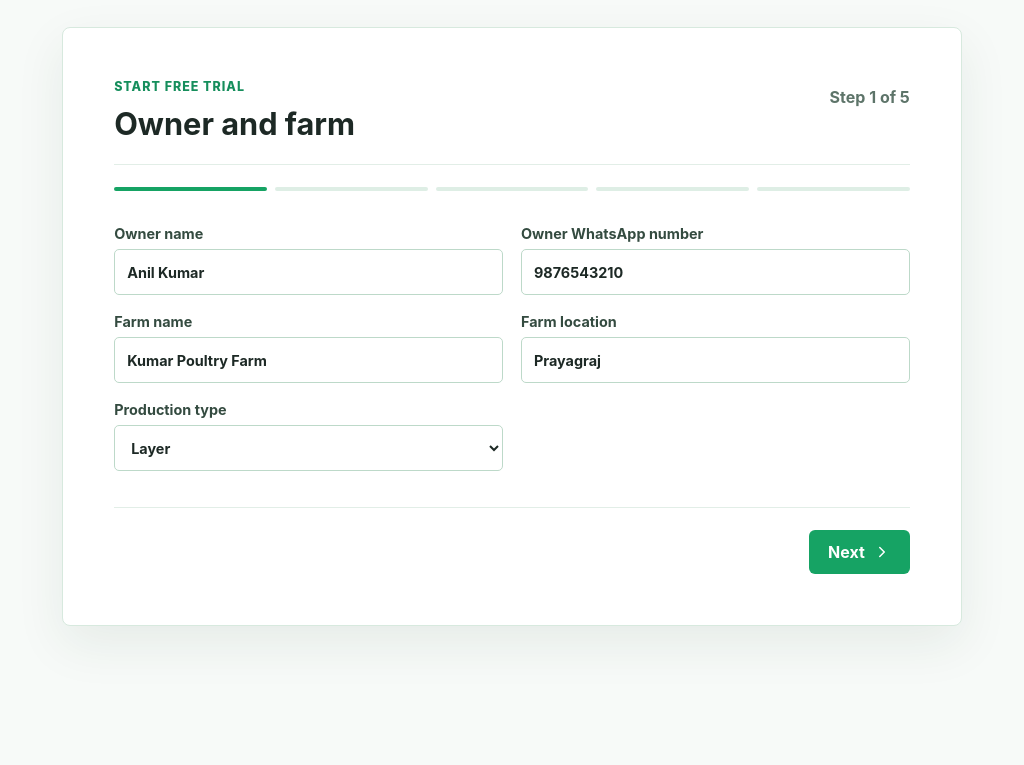
Test: TrialForm › allows no more than four workers
The image size is (1024, 765).
Click the button "Next". click: {"x": 859, "y": 552}
box: x1=809 y1=530 x2=910 y2=574
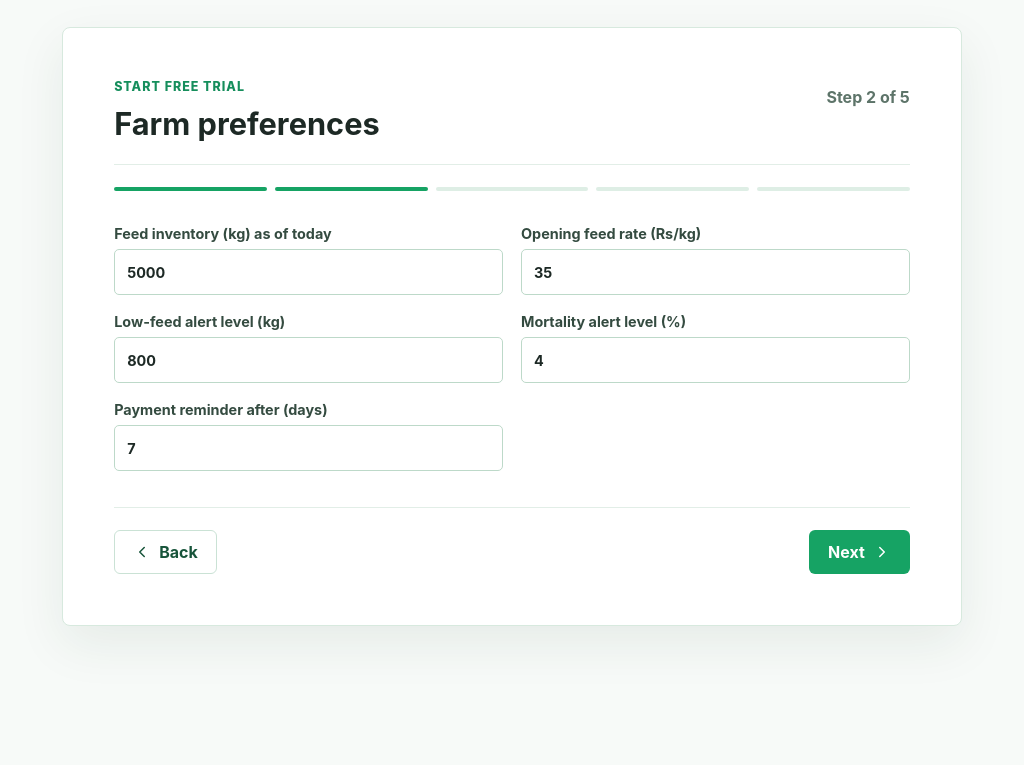
expect the heading "Farm preferences" is shown: met, box x1=114 y1=108 x2=380 y2=140
Click the button "Next". click: {"x": 859, "y": 552}
box: x1=809 y1=530 x2=910 y2=574
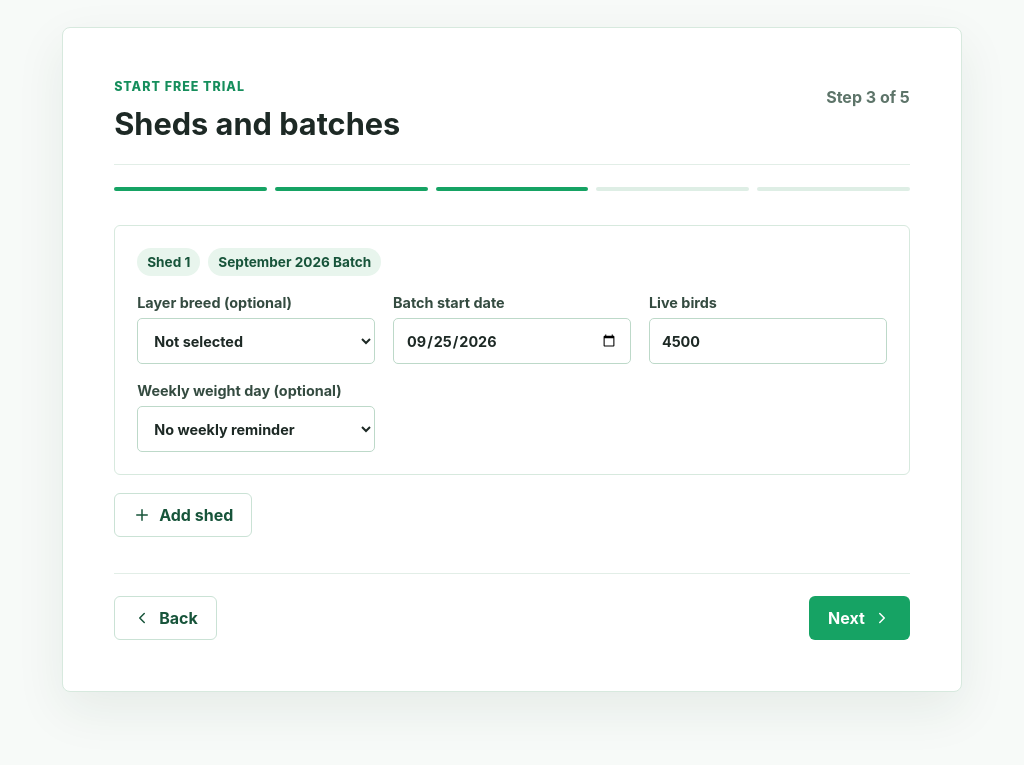
expect the heading "Sheds and batches" is shown: met, box x1=114 y1=108 x2=400 y2=140
Click the button "Next". click: {"x": 859, "y": 618}
box: x1=809 y1=596 x2=910 y2=640
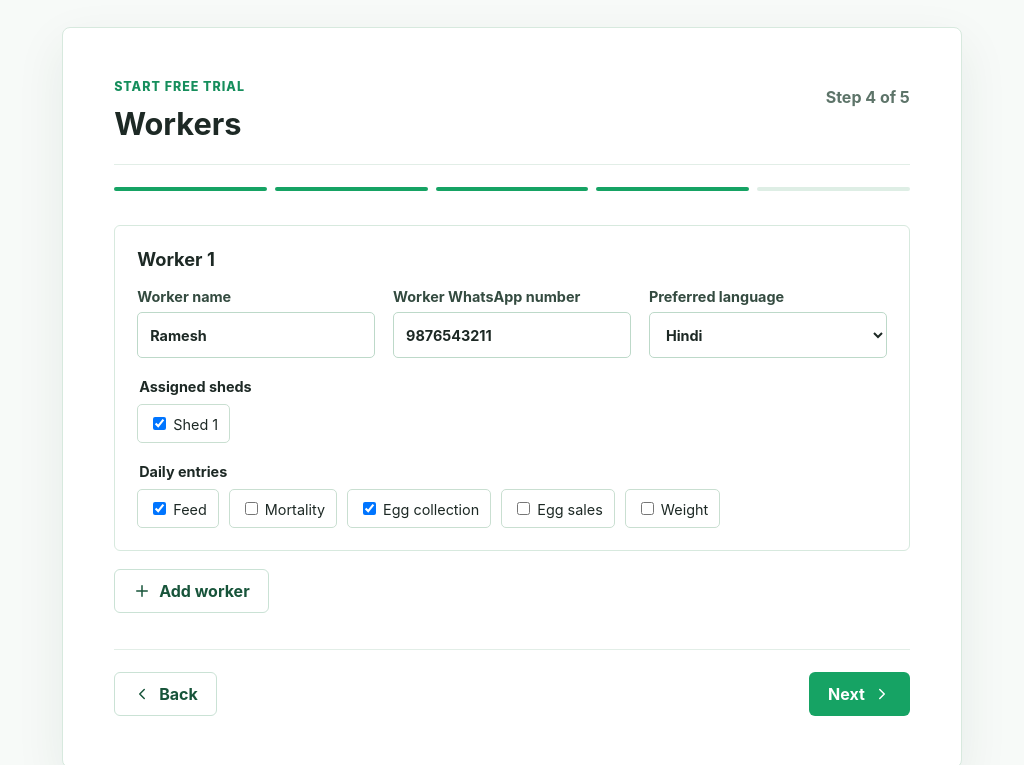
expect the heading "Workers" is shown: met, box x1=114 y1=108 x2=245 y2=140
Click the button "Add worker". click: {"x": 191, "y": 591}
box: x1=114 y1=569 x2=269 y2=613
(page scrolled)
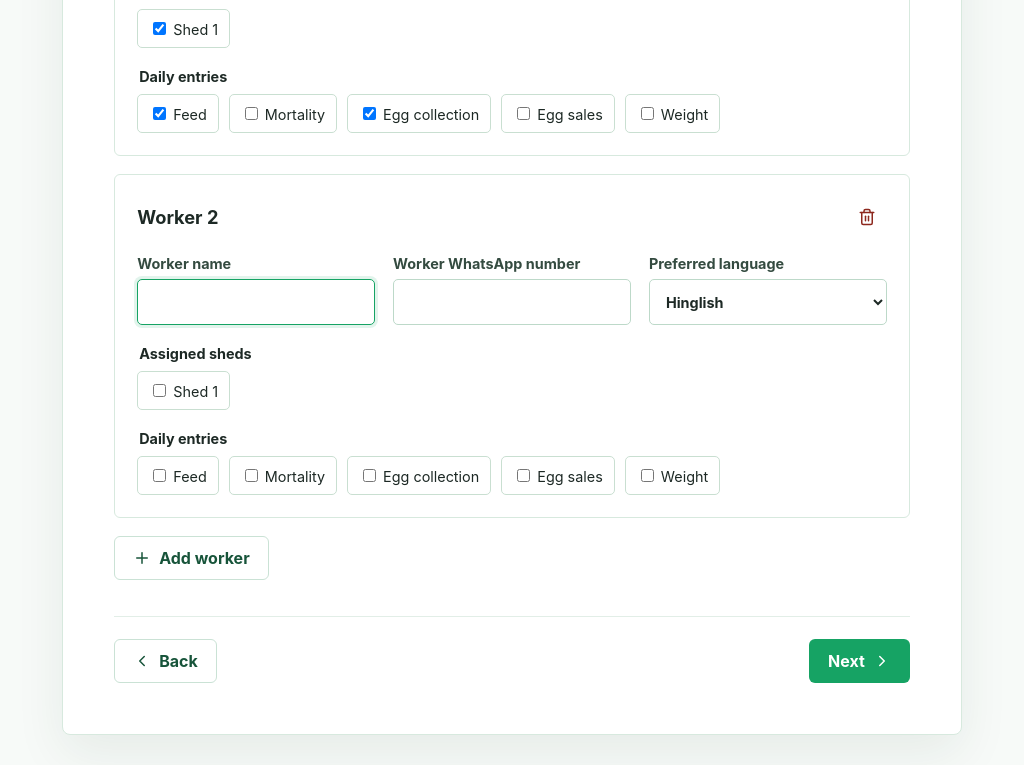
expect the heading "Worker 2" is shown: met, box x1=137 y1=206 x2=218 y2=228
Click the button "Add worker". click: {"x": 191, "y": 558}
box: x1=114 y1=536 x2=269 y2=580
(page scrolled)
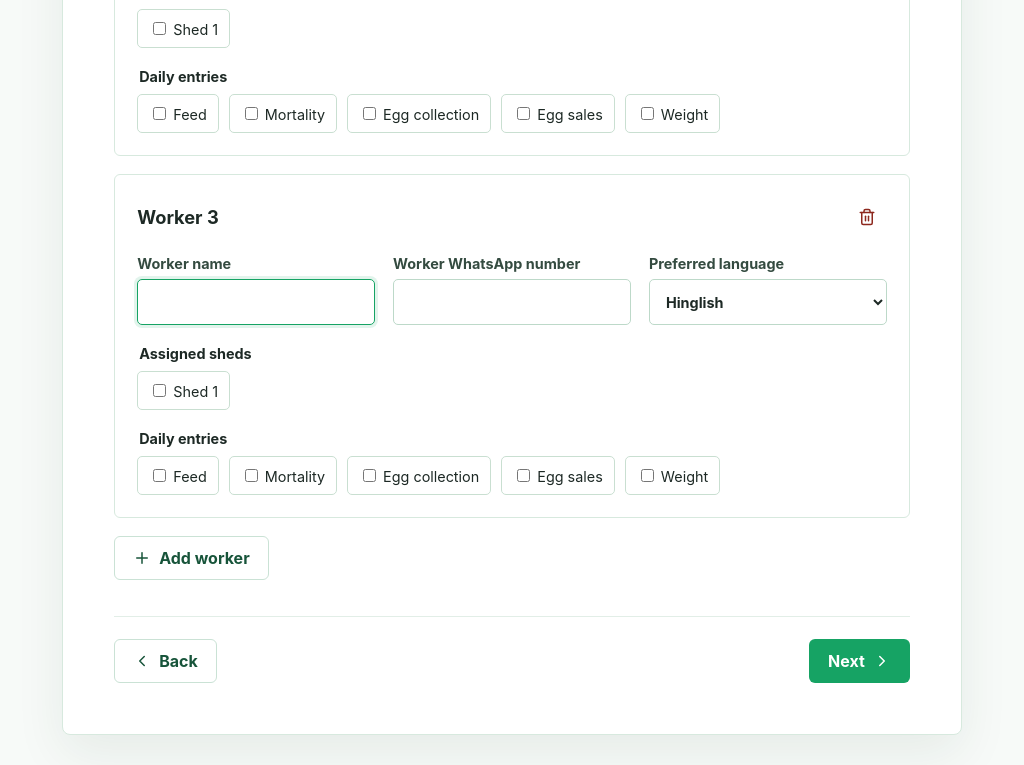
expect the heading "Worker 3" is shown: met, box x1=137 y1=206 x2=219 y2=228
Click the button "Add worker". click: {"x": 191, "y": 558}
box: x1=114 y1=536 x2=269 y2=580
(page scrolled)
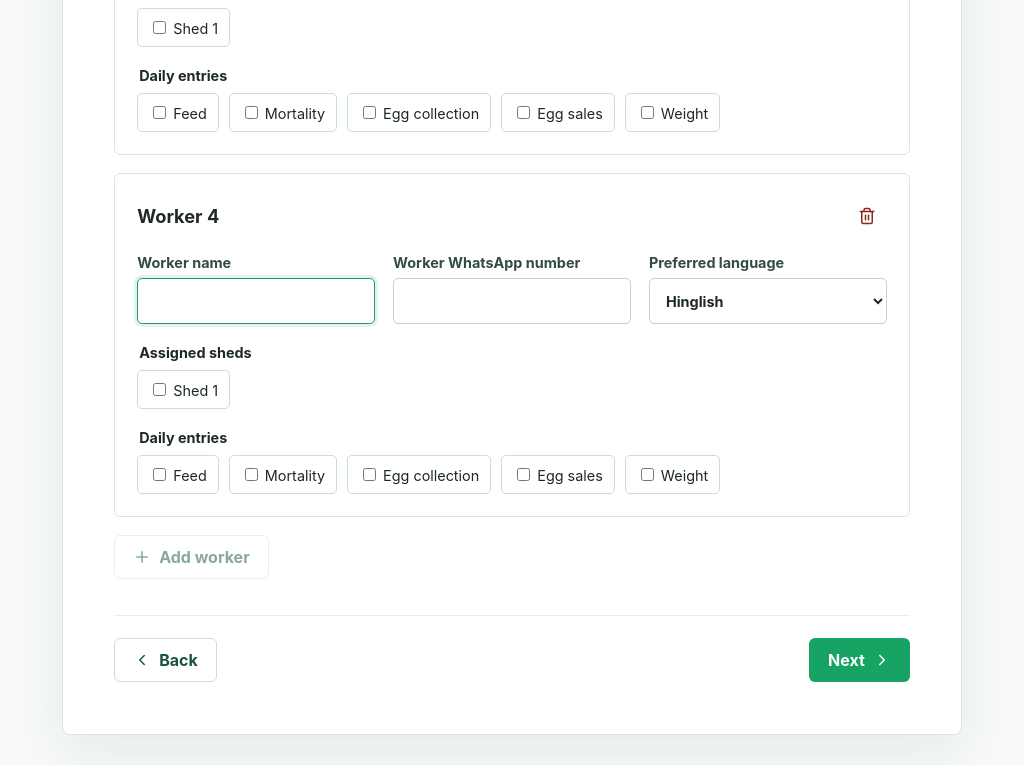
expect the heading "Worker 4" is shown: met, box x1=137 y1=205 x2=219 y2=227
expect the button "Add worker" is disabled: met, box x1=114 y1=535 x2=269 y2=579
